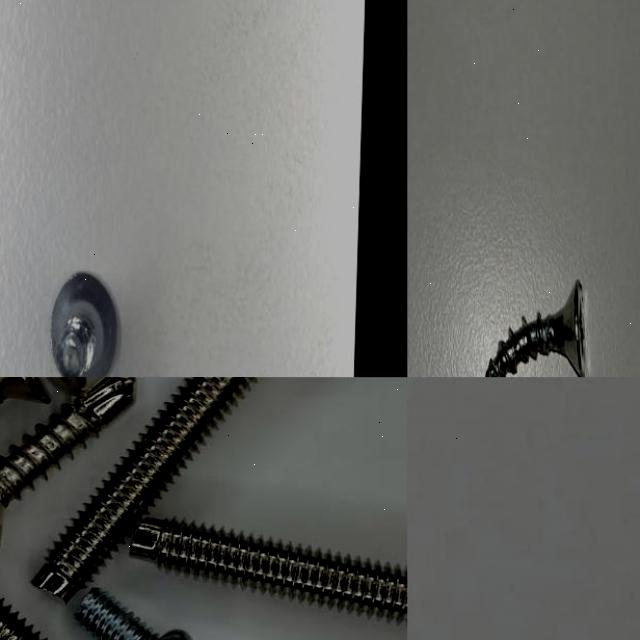Screw: (34, 377, 256, 599), (132, 519, 407, 612), (0, 377, 134, 540), (486, 279, 586, 377), (51, 273, 117, 377), (77, 589, 193, 640)
